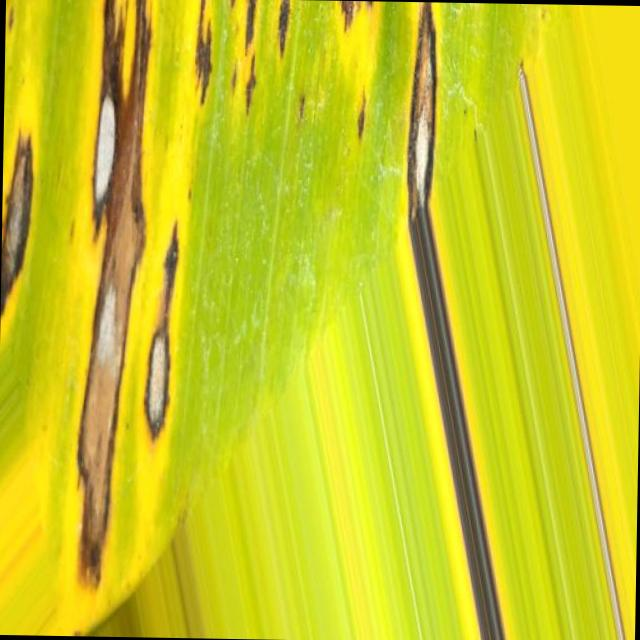Banana_Yellow_Sigatoka: (391, 4, 606, 640), (66, 0, 205, 574), (0, 101, 49, 312)
